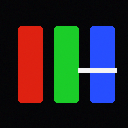3 line_h: (78, 68, 116, 72)
